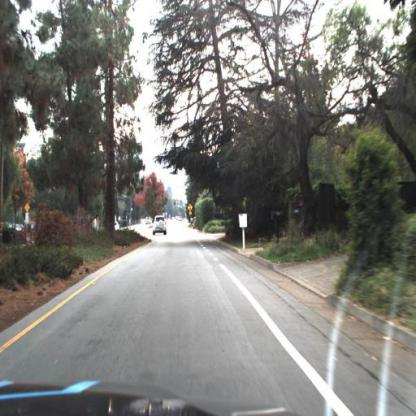car: (151, 213, 169, 238)
